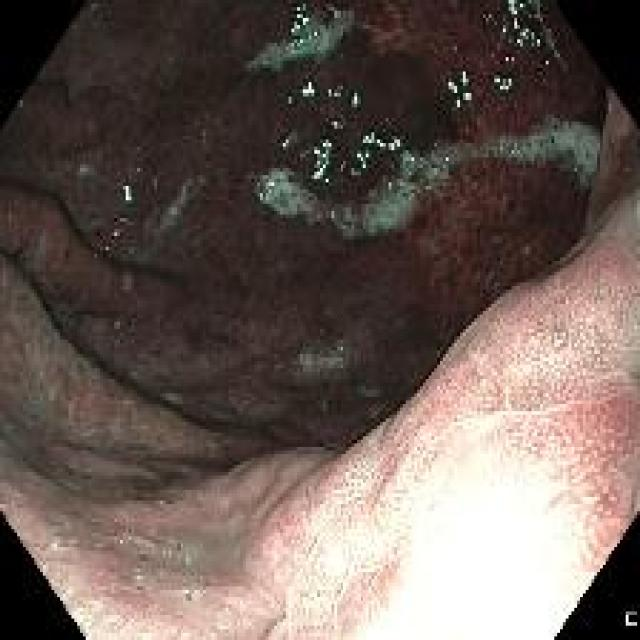bubbles: (254, 121, 603, 227), (248, 7, 352, 66), (298, 339, 352, 373), (102, 216, 131, 254), (620, 151, 639, 176)
saturation: (338, 394, 621, 637), (258, 498, 368, 638)
specularity: (342, 125, 411, 180), (498, 0, 548, 55), (321, 82, 366, 138), (437, 64, 474, 118), (287, 7, 327, 48), (309, 132, 333, 182), (250, 163, 274, 209), (113, 172, 138, 206), (284, 77, 311, 105), (492, 64, 514, 91), (11, 92, 28, 118), (501, 51, 523, 71), (278, 132, 293, 154), (111, 319, 122, 332), (111, 232, 119, 239), (119, 217, 126, 223), (105, 246, 109, 251)
